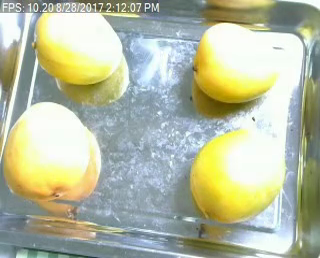Mango: (0, 100, 90, 199), (189, 130, 283, 222), (33, 4, 123, 84), (195, 19, 278, 101)
